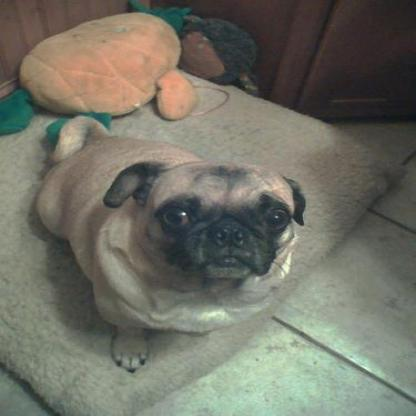pug: (28, 116, 306, 371)
